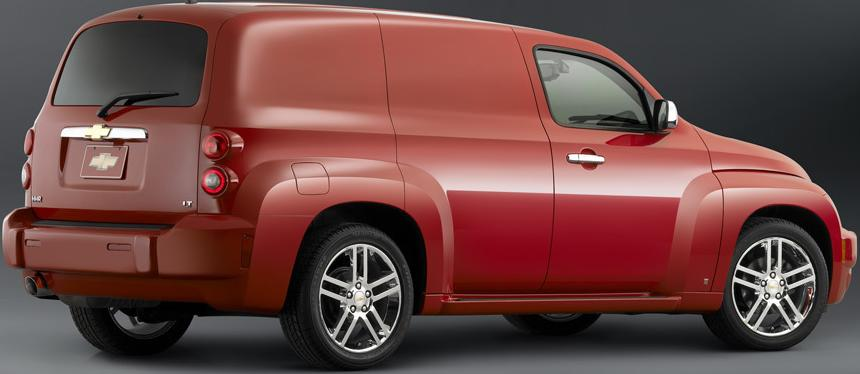back_view: (1, 112, 271, 318)
backlight: (198, 127, 245, 205)
side_glass: (527, 38, 680, 144)
